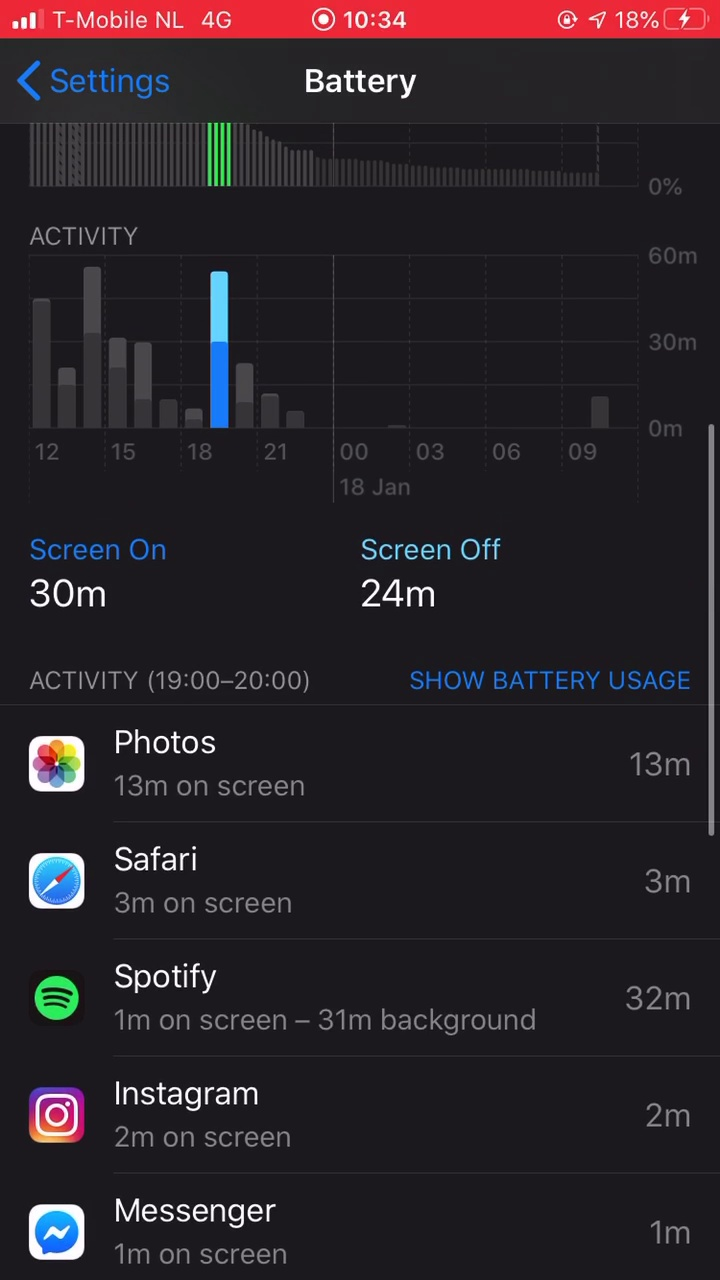activity: (15, 660, 322, 701)
app: (11, 722, 699, 816), (21, 836, 709, 930), (22, 950, 710, 1044), (16, 1071, 704, 1165), (12, 1186, 700, 1280)
